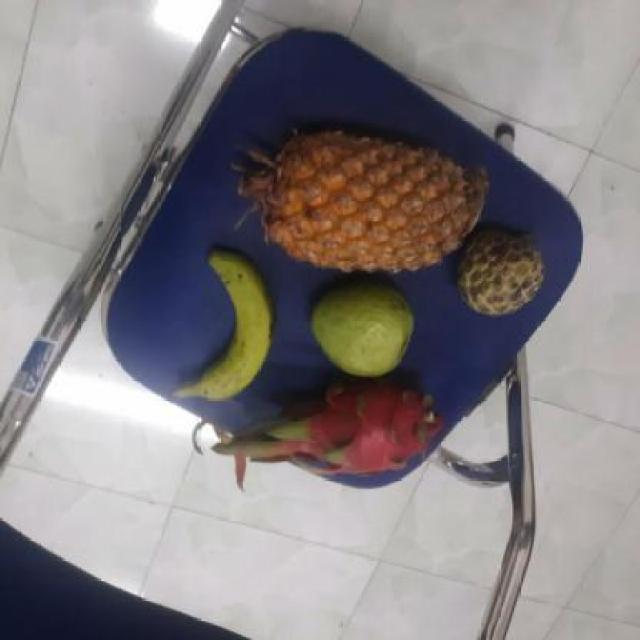banana: (178, 254, 275, 401)
dragon fruit: (248, 370, 445, 482)
guava: (306, 282, 419, 380)
pineapple: (259, 133, 483, 272)
sugar apple: (450, 228, 544, 315)
